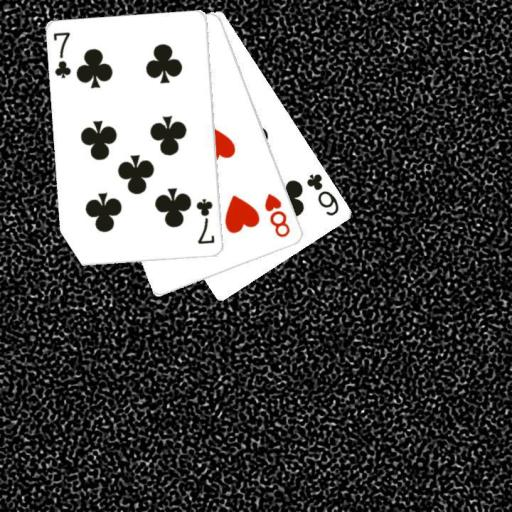6C: (304, 170, 341, 218)
7C: (193, 196, 217, 246), (51, 29, 74, 80)
8H: (262, 190, 292, 240)
